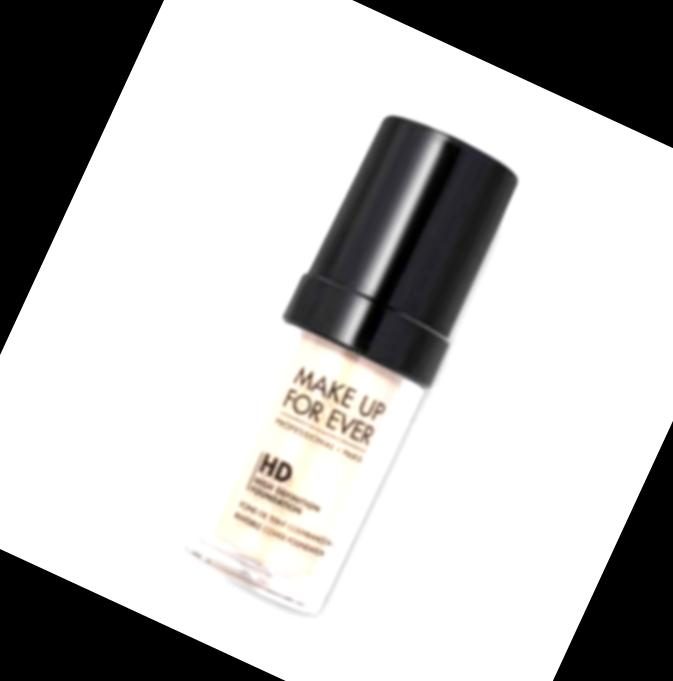cosmetic: (166, 100, 533, 624)
